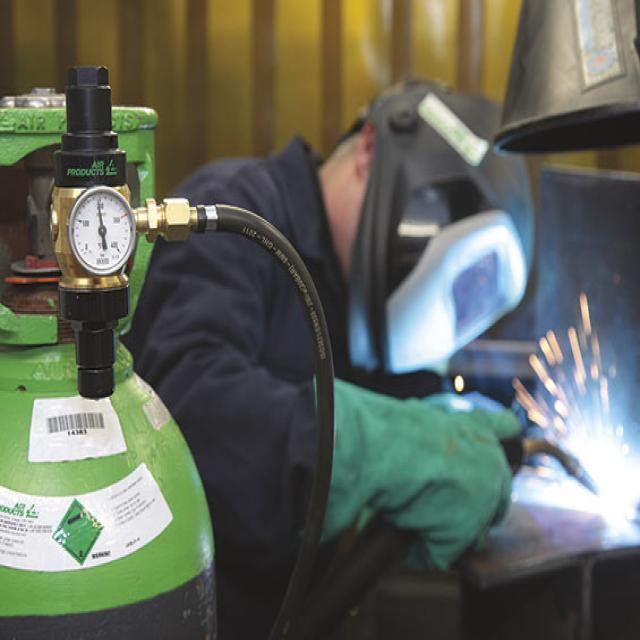with_helmet: (347, 84, 533, 375)
